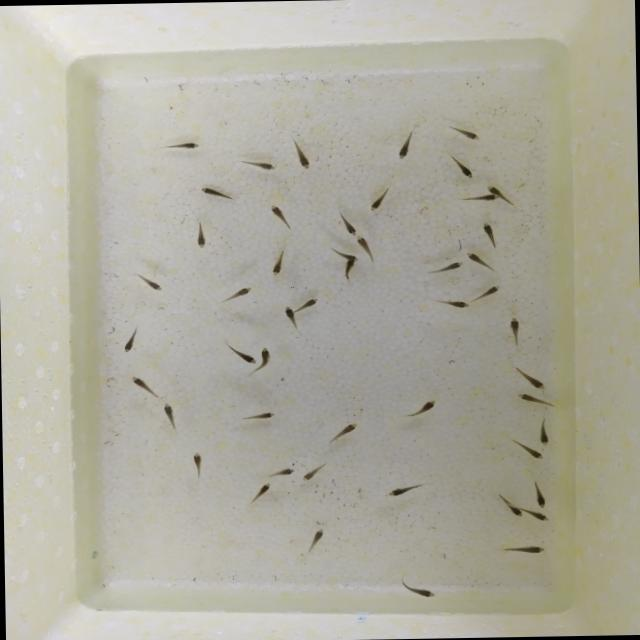fingerling: (501, 389, 565, 409), (394, 576, 439, 601), (512, 366, 548, 394), (396, 126, 422, 161), (266, 201, 296, 231), (291, 136, 315, 172), (383, 480, 428, 499), (158, 135, 205, 153), (300, 524, 328, 554), (192, 219, 218, 250), (194, 184, 234, 204), (444, 126, 488, 144), (222, 342, 258, 364), (126, 374, 162, 396), (405, 394, 436, 419), (327, 419, 361, 441), (504, 540, 550, 556), (496, 494, 526, 518), (242, 482, 272, 506), (502, 315, 524, 346), (532, 413, 554, 444), (450, 156, 475, 183), (244, 156, 280, 173), (487, 184, 521, 202), (532, 475, 550, 509), (472, 283, 501, 304), (370, 186, 390, 216), (254, 345, 274, 375), (297, 463, 329, 481), (136, 274, 161, 296), (220, 286, 252, 303), (186, 448, 202, 482), (522, 443, 550, 462), (358, 238, 379, 263), (424, 262, 464, 275), (334, 209, 354, 234), (280, 301, 298, 328), (122, 328, 138, 358), (267, 251, 286, 276), (466, 250, 491, 268), (484, 222, 499, 250), (238, 411, 276, 422), (523, 506, 549, 522), (268, 463, 294, 479), (434, 296, 468, 308), (331, 245, 358, 260), (298, 292, 320, 310), (164, 400, 174, 430), (459, 193, 496, 200), (342, 264, 353, 282)
